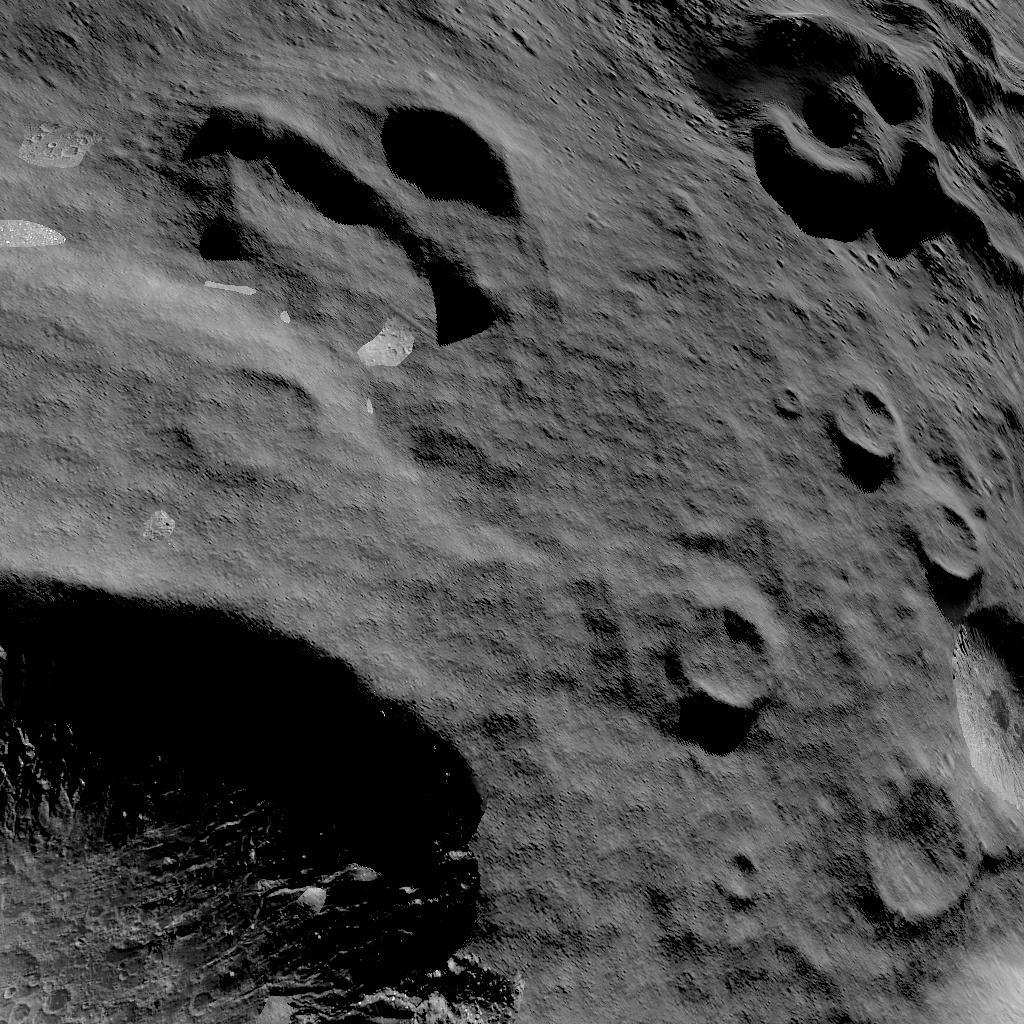Crater: (3, 550, 570, 1022), (178, 74, 540, 342), (728, 0, 1024, 241), (850, 598, 1024, 928), (665, 577, 812, 742), (177, 362, 322, 488), (807, 356, 912, 476), (910, 490, 991, 586)
Plan surface: (0, 0, 155, 534)
